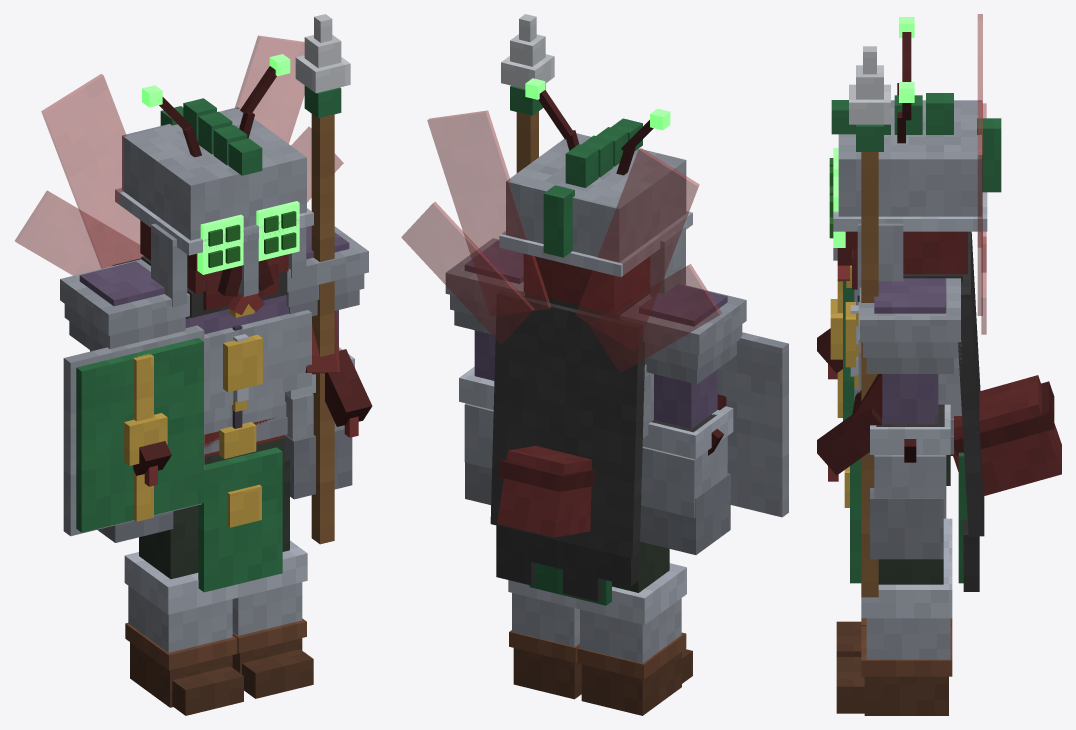
File: insectoid_garde.glb
The picture shows the model from 3 angles, left to right: view 1: azimuth 30°, elevation 25°; view 2: azimuth 150°, elevation 25°; view 3: azimuth 270°, elevation 25°; orthographic projection. The views are drawn at different scales.
Visible parts, largest first — view 1: Torso, ArmR, Head, LegR, HandL, LegL, ArmL; view 2: Torso, ArmR, Head, LegR, ArmL, LegL, HandL; view 3: Torso, Head, ArmL, LegL, HandL, ArmR, LegR.
Boxes of the visible parts, bbox=[...] form: Torso: bbox=[15, 35, 372, 592]; ArmR: bbox=[60, 259, 204, 542]; Head: bbox=[115, 54, 313, 315]; LegR: bbox=[124, 505, 243, 715]; HandL: bbox=[295, 14, 350, 544]; LegL: bbox=[232, 456, 313, 698]; ArmL: bbox=[284, 226, 368, 499]; Torso: bbox=[401, 110, 726, 605]; ArmR: bbox=[620, 284, 788, 554]; Head: bbox=[499, 78, 692, 313]; LegR: bbox=[576, 541, 692, 715]; ArmL: bbox=[445, 238, 524, 504]; LegL: bbox=[508, 580, 581, 699]; HandL: bbox=[501, 14, 554, 172]; Torso: bbox=[817, 14, 1061, 591]; Head: bbox=[829, 17, 1001, 295]; ArmL: bbox=[859, 278, 960, 559]; LegL: bbox=[836, 554, 952, 715]; HandL: bbox=[849, 46, 890, 597]; ArmR: bbox=[830, 281, 858, 420]; LegR: bbox=[836, 518, 952, 656].
Size of the model in its own units: 1.15 by 2.14 by 0.699.
41 materials, 41 textured.
